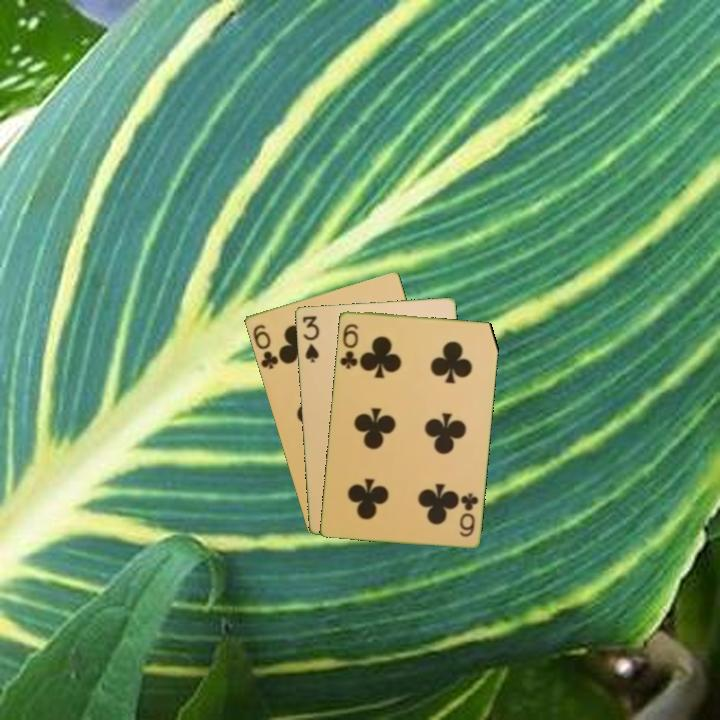3s: (299, 312, 322, 365)
6c: (249, 321, 281, 372), (455, 489, 481, 540), (336, 319, 361, 372)
